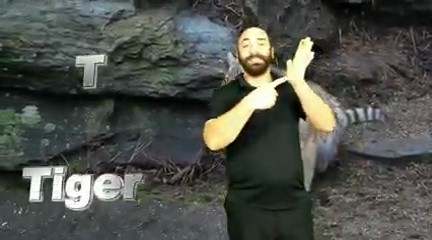T: (246, 36, 320, 109)
